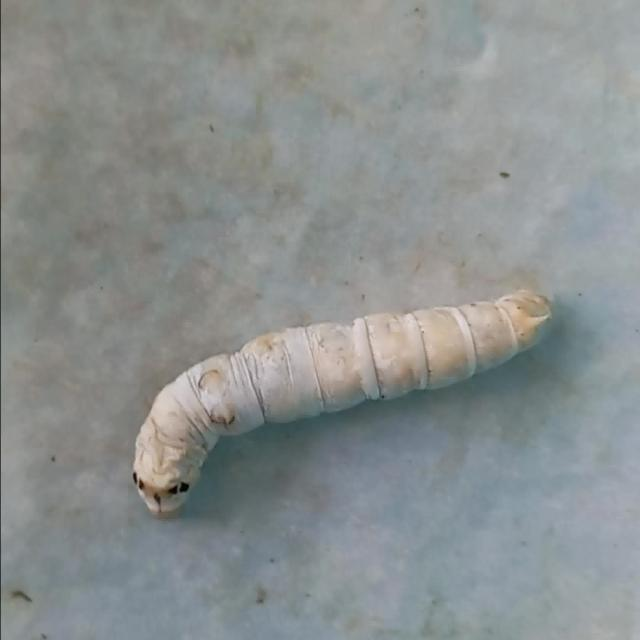Grasserie: (92, 262, 580, 542)
